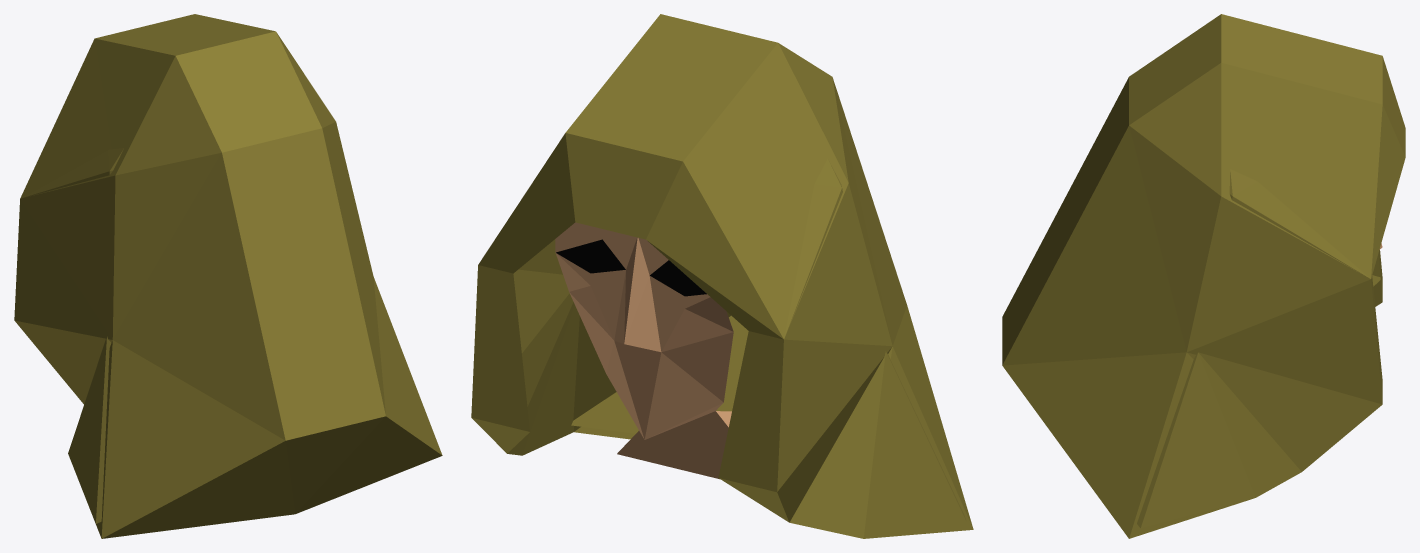
The model's file is npc_world_jungle_forester_2_0.obj.
3 views of the same model, side by side, from view 1: azimuth 30°, elevation 25°; view 2: azimuth 150°, elevation 25°; view 3: azimuth 270°, elevation 25° (orthographic). The views are drawn at different scales.
Size of the model in its own units: 0.2656 by 0.3125 by 0.2734.
